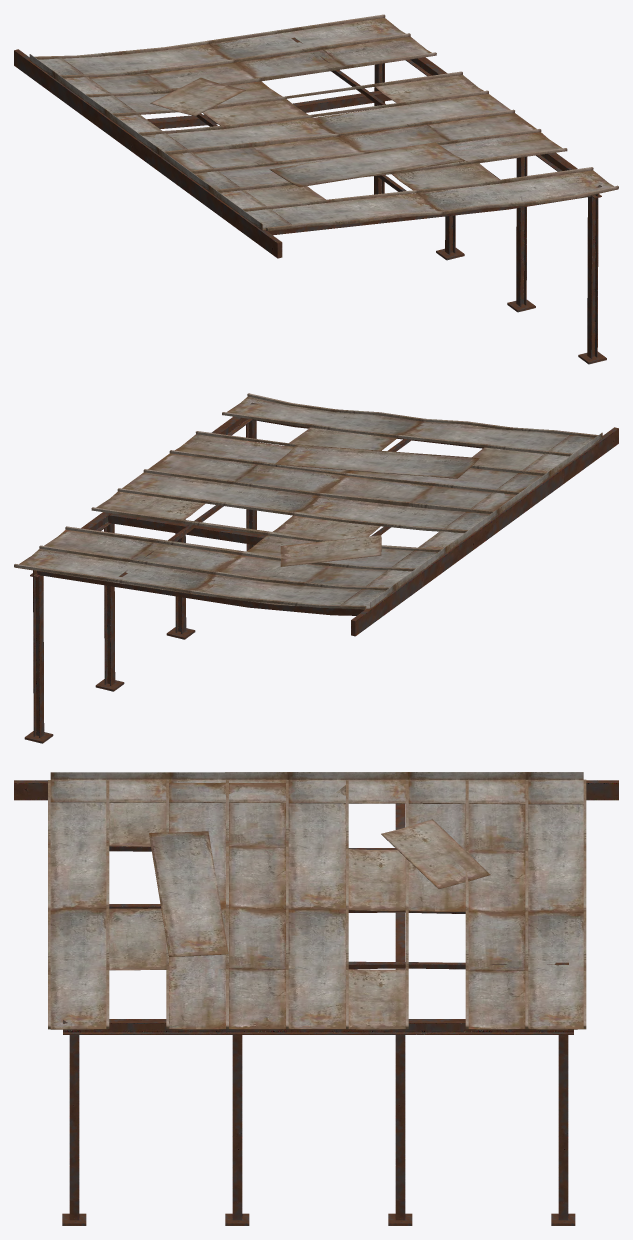
Rendered from wh_carport.glb.
The picture shows the model from 3 angles, top to bottom: view 1: azimuth 30°, elevation 25°; view 2: azimuth 150°, elevation 25°; view 3: azimuth 270°, elevation 25°; orthographic projection. The views are drawn at different scales.
Visible parts, largest first — view 1: wh_carport_LOD0; view 2: wh_carport_LOD0; view 3: wh_carport_LOD0.
Part boxes in pixels (x1,y1,x2,y2): wh_carport_LOD0: [14, 14, 618, 364]; wh_carport_LOD0: [14, 393, 618, 743]; wh_carport_LOD0: [14, 772, 618, 1225].
Size of the model in its own units: 4.88 by 2.95 by 6.26.
2 materials, 2 textured.
